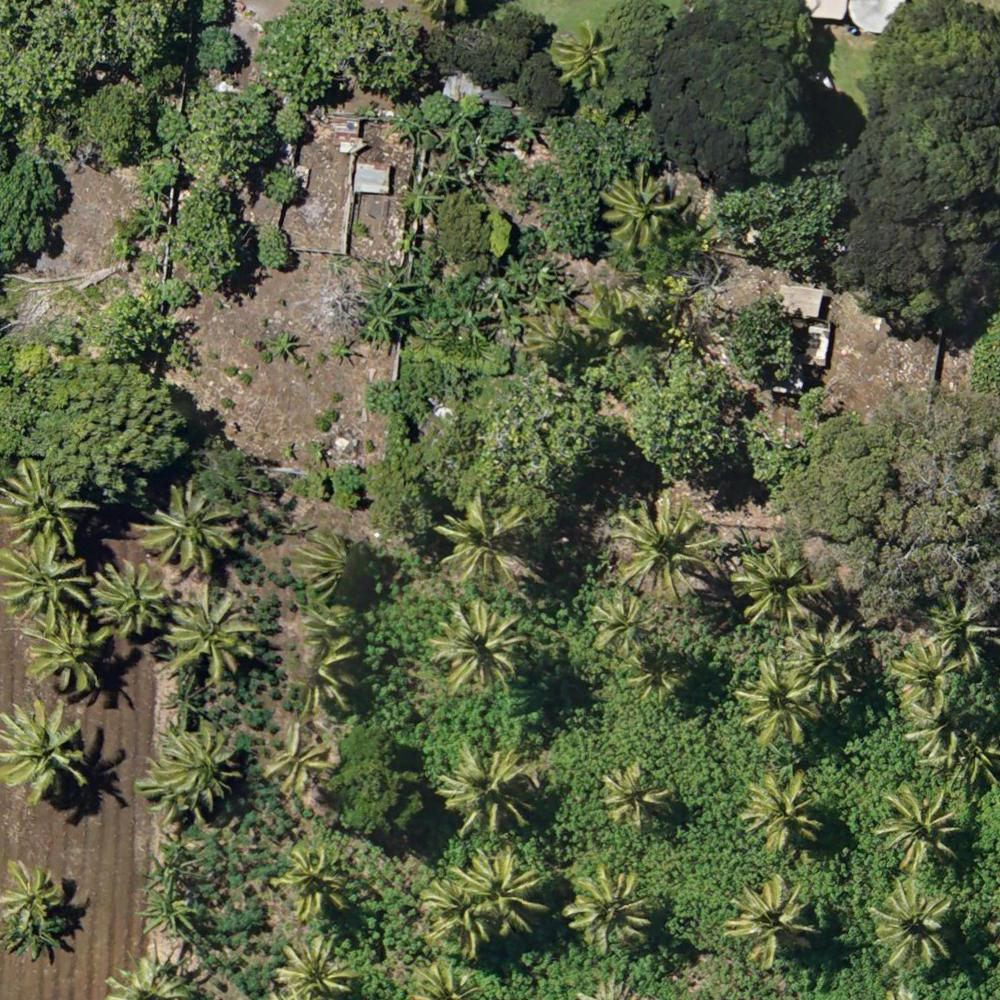Palm: (133, 482, 234, 575), (615, 498, 712, 592), (733, 542, 833, 627), (729, 873, 820, 962), (1, 700, 85, 795), (167, 589, 258, 675), (436, 492, 525, 579), (871, 882, 962, 967), (441, 746, 533, 830), (434, 599, 517, 691), (2, 457, 85, 548), (455, 848, 542, 932), (741, 659, 824, 746), (566, 862, 648, 950), (1, 532, 84, 617), (26, 610, 106, 697), (876, 788, 962, 866), (86, 557, 165, 638), (417, 879, 491, 958), (743, 774, 821, 846), (601, 171, 676, 245), (156, 730, 234, 801), (928, 591, 997, 668), (891, 638, 961, 710), (276, 846, 348, 914), (780, 633, 853, 700), (278, 934, 357, 995), (265, 722, 334, 791), (601, 764, 675, 827), (903, 696, 970, 763), (3, 863, 65, 935), (547, 24, 617, 85), (587, 592, 651, 656), (624, 648, 682, 701)
